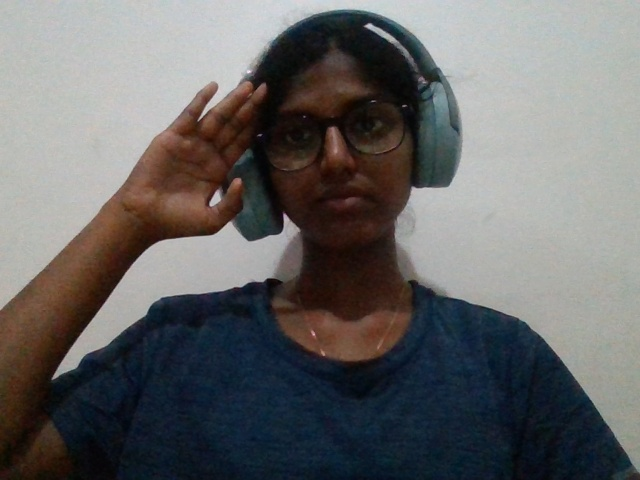Hello: (83, 35, 330, 292)
